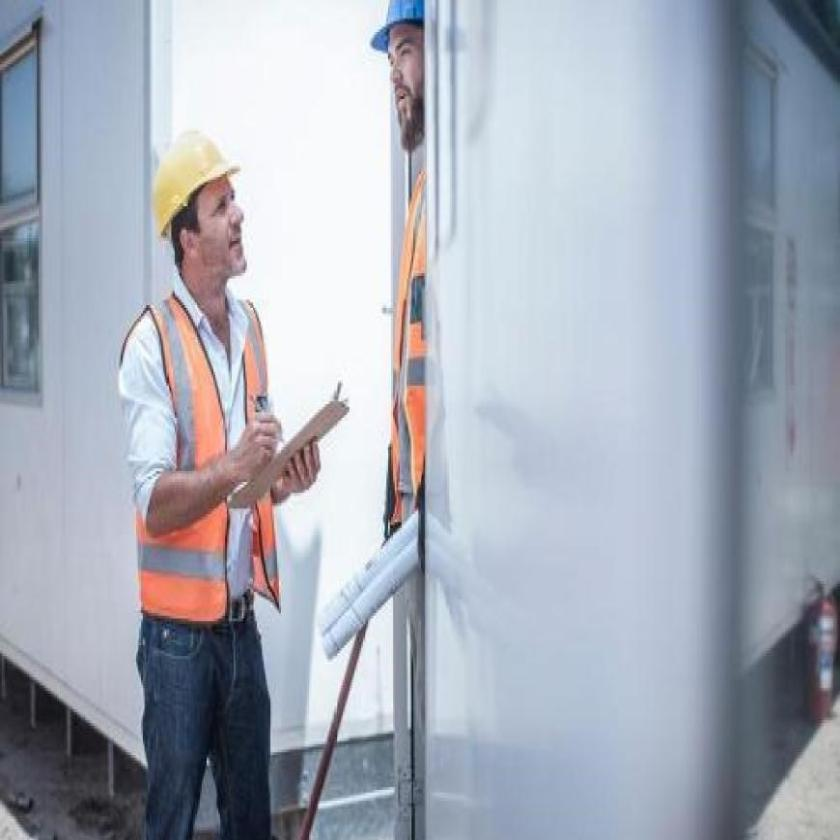Con_casco: (148, 128, 255, 309), (362, 0, 442, 170)
